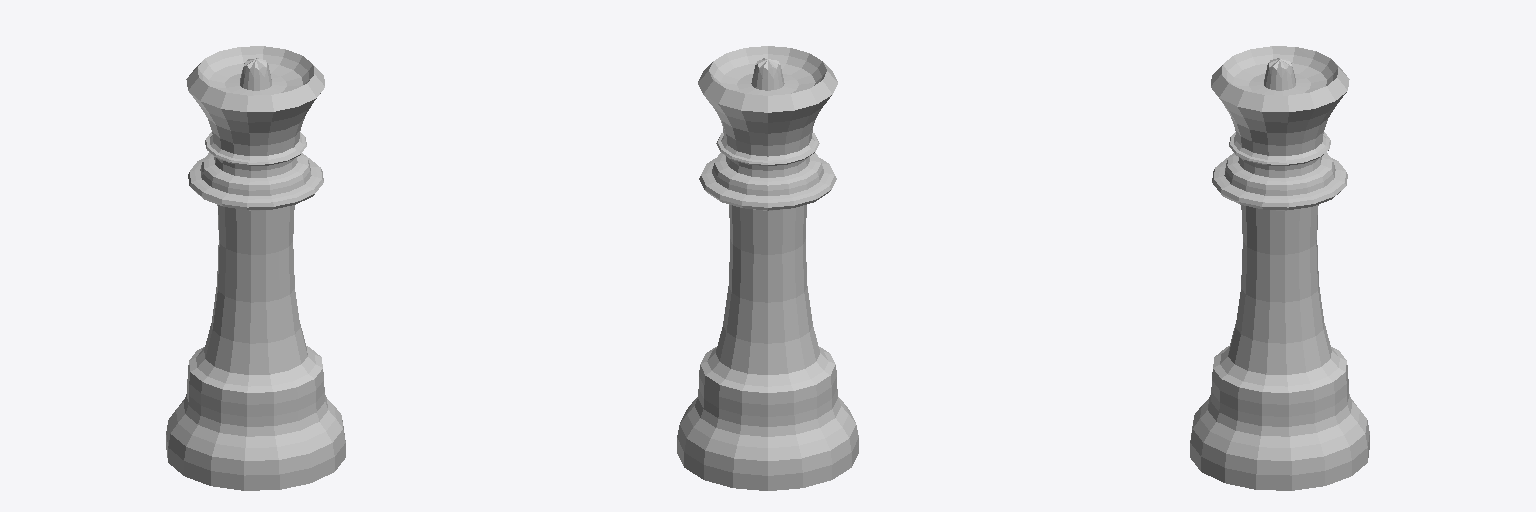
The model's file is queen.obj.
3 renders of one model, left to right at view 1: azimuth 30°, elevation 25°; view 2: azimuth 150°, elevation 25°; view 3: azimuth 270°, elevation 25°, orthographic.
Visible parts, largest first — view 1: Queen_Circle.002; view 2: Queen_Circle.002; view 3: Queen_Circle.002.
Part boxes in pixels (x1,y1,x2,y2): Queen_Circle.002: (166, 46, 345, 490); Queen_Circle.002: (677, 46, 858, 490); Queen_Circle.002: (1190, 46, 1369, 490).
Bounding box in the file's own units: 2.95 × 7.14 × 2.95.